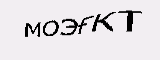К: (89, 10, 116, 33)
М: (23, 21, 42, 39)
О: (42, 20, 60, 38)
Т: (115, 8, 143, 34)
Э: (60, 16, 77, 36)
Ғ: (77, 14, 95, 37)
